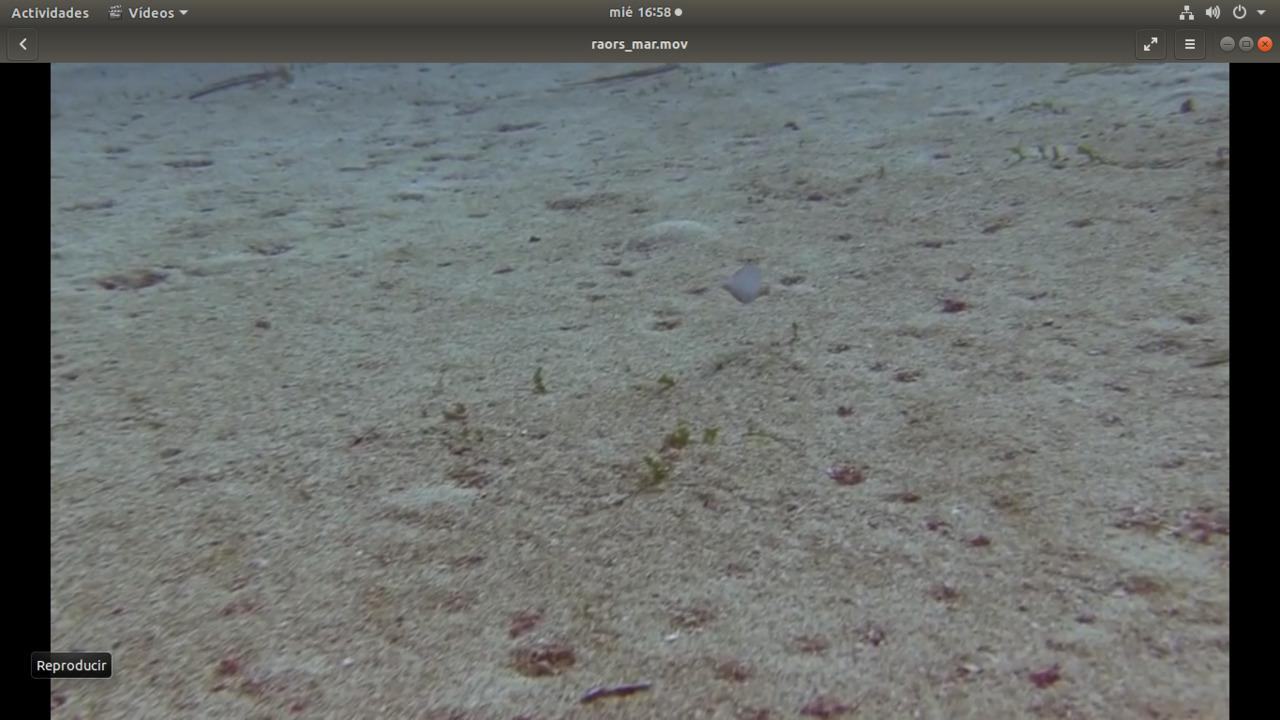raor: (701, 251, 778, 314)
